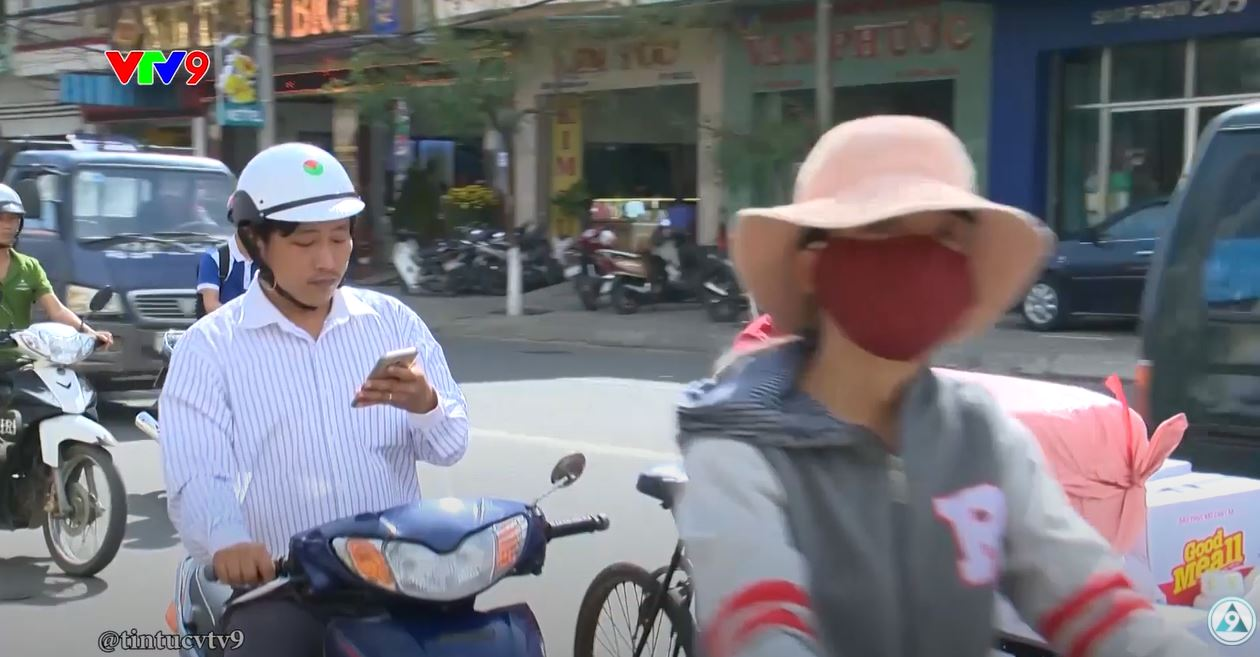dieu khien xe may: (219, 141, 555, 656)
su dung dien thoai: (226, 143, 437, 419)
